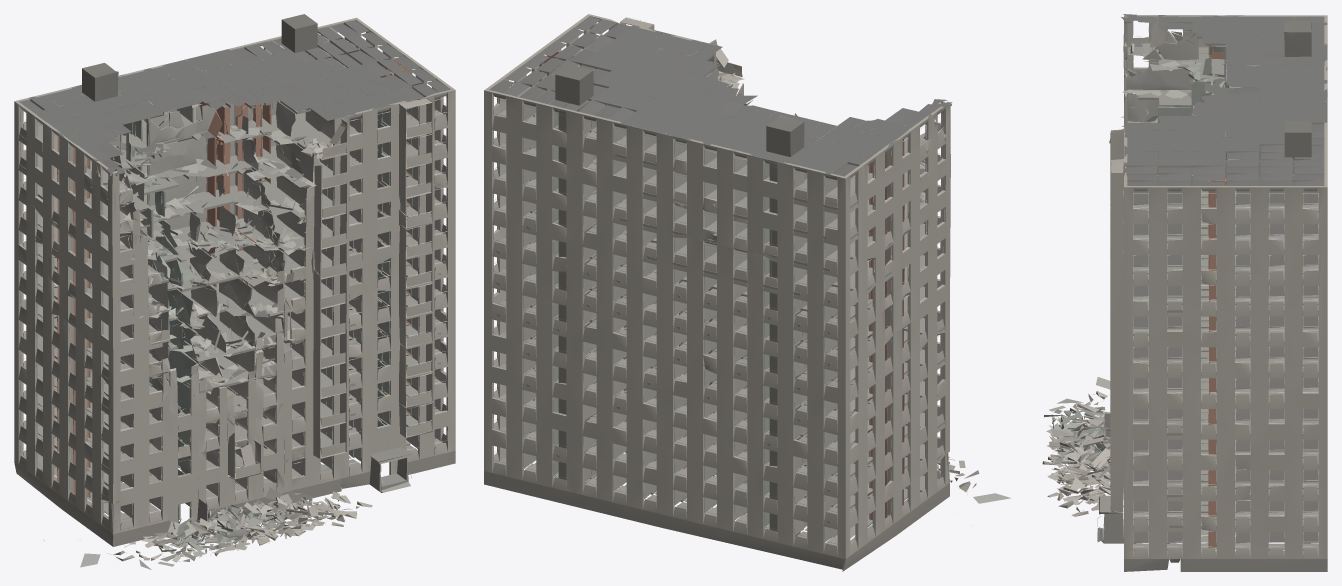
The model's file is b3_ruin_lod1.glb.
The picture shows the model from 3 angles, left to right: view 1: azimuth 30°, elevation 25°; view 2: azimuth 150°, elevation 25°; view 3: azimuth 270°, elevation 25°; orthographic projection. The views are drawn at different scales.
Parts seen in each view (by area): view 1: b3_lod1__facade_panel, b3_lod1__wall_room, b3_lod1__slab_top, b3_lod1__roof, b3_lod1__stairwell_wall, b3_lod1__slab_edge, b3_lod1__window_frame, b3_lod1__plinth, b3_lod1__slab_under, b3_lod1__concrete, b3_lod1__monolith; view 2: b3_lod1__facade_panel, b3_lod1__roof, b3_lod1__wall_room, b3_lod1__slab_top, b3_lod1__concrete, b3_lod1__plinth, b3_lod1__slab_edge, b3_lod1__window_frame, b3_lod1__stairwell_wall; view 3: b3_lod1__facade_panel, b3_lod1__roof, b3_lod1__wall_room, b3_lod1__slab_top, b3_lod1__window_frame, b3_lod1__slab_edge, b3_lod1__plinth, b3_lod1__stairwell_wall, b3_lod1__concrete, b3_lod1__monolith, b3_lod1__slab_under.
Boxes of the visible parts, box(x1,y1,x2,y2) form: b3_lod1__facade_panel: box(14, 17, 455, 566); b3_lod1__wall_room: box(19, 19, 448, 549); b3_lod1__slab_top: box(19, 55, 443, 569); b3_lod1__roof: box(19, 20, 450, 534); b3_lod1__stairwell_wall: box(120, 37, 389, 561); b3_lod1__slab_edge: box(19, 22, 447, 561); b3_lod1__window_frame: box(20, 33, 447, 562); b3_lod1__plinth: box(14, 451, 455, 546); b3_lod1__slab_under: box(80, 125, 333, 567); b3_lod1__concrete: box(82, 14, 317, 529); b3_lod1__monolith: box(154, 447, 413, 543); b3_lod1__facade_panel: box(484, 14, 970, 558); b3_lod1__roof: box(490, 16, 952, 202); b3_lod1__wall_room: box(489, 16, 948, 541); b3_lod1__slab_top: box(496, 65, 979, 547); b3_lod1__concrete: box(555, 64, 804, 536); b3_lod1__plinth: box(484, 471, 949, 571); b3_lod1__slab_edge: box(492, 36, 976, 537); b3_lod1__window_frame: box(493, 17, 976, 544); b3_lod1__stairwell_wall: box(548, 69, 955, 526); b3_lod1__facade_panel: box(1042, 15, 1327, 558); b3_lod1__roof: box(1104, 14, 1327, 457); b3_lod1__wall_room: box(1046, 16, 1324, 548); b3_lod1__slab_top: box(1057, 47, 1318, 556); b3_lod1__window_frame: box(1055, 27, 1318, 546); b3_lod1__slab_edge: box(1049, 21, 1324, 557); b3_lod1__plinth: box(1124, 559, 1327, 571); b3_lod1__stairwell_wall: box(1044, 45, 1310, 461); b3_lod1__concrete: box(1284, 20, 1311, 160); b3_lod1__monolith: box(1089, 412, 1123, 543); b3_lod1__slab_under: box(1048, 43, 1209, 493).
Size of the model in its own units: 40.82 by 40.42 by 25.42.
